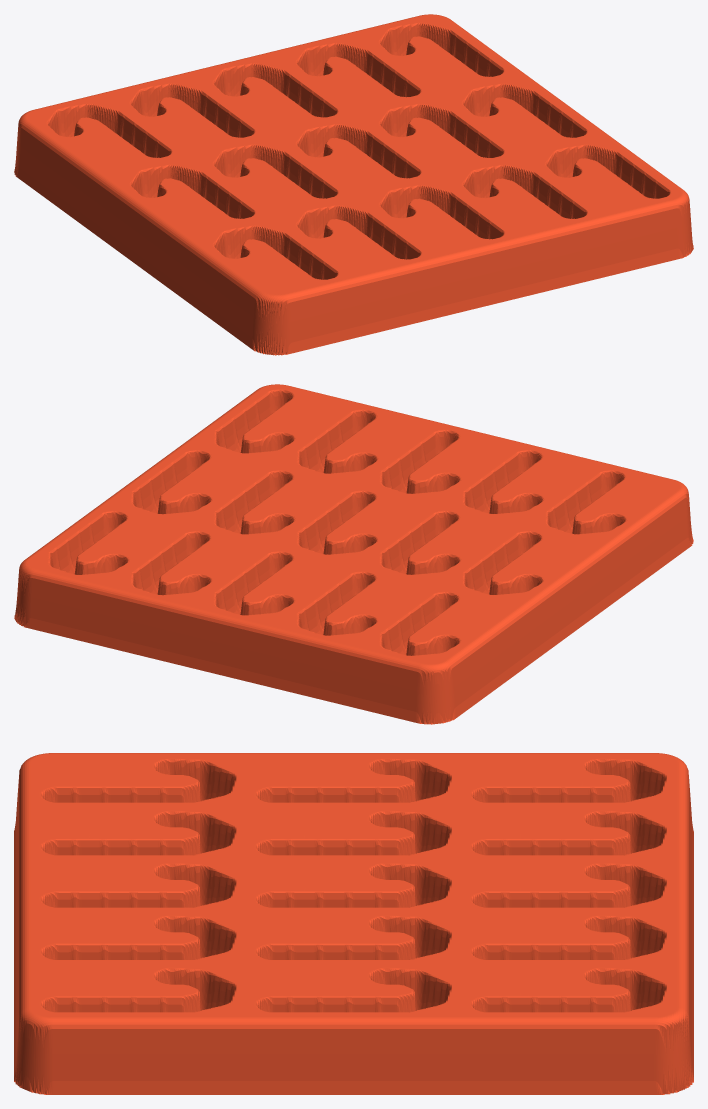
Rendered from mold.glb.
The picture shows the model from 3 angles, top to bottom: view 1: azimuth 30°, elevation 25°; view 2: azimuth 150°, elevation 25°; view 3: azimuth 270°, elevation 25°; orthographic projection. The views are drawn at different scales.
Visible parts, largest first — view 1: geometry_0; view 2: geometry_0; view 3: geometry_0.
Part boxes in pixels (x1=…): geometry_0: x1=14, y1=14, x2=693, y2=355; geometry_0: x1=14, y1=384, x2=693, y2=724; geometry_0: x1=14, y1=753, x2=693, y2=1094.
Size of the model in its own units: 0.1542 by 0.0185 by 0.1602.
